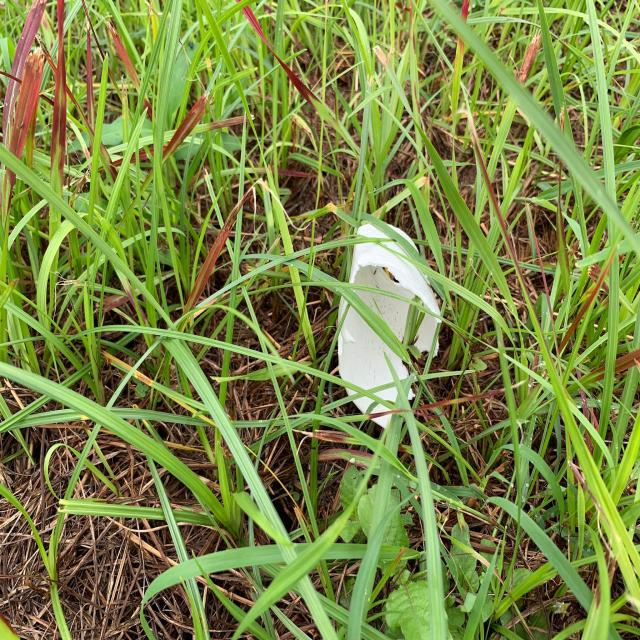litter: (338, 223, 442, 429)
